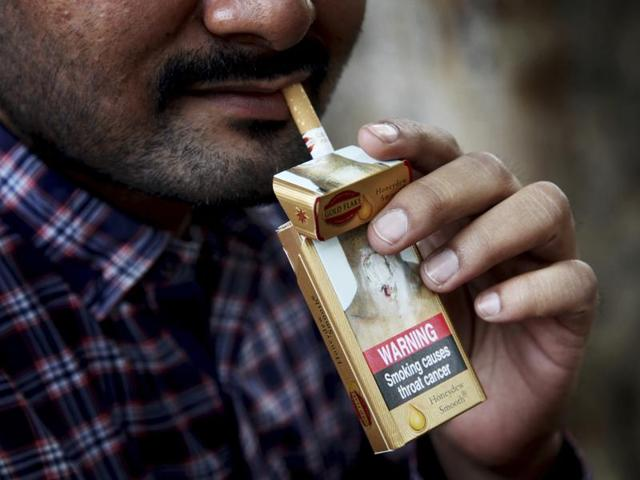cigarette: (280, 82, 334, 160)
